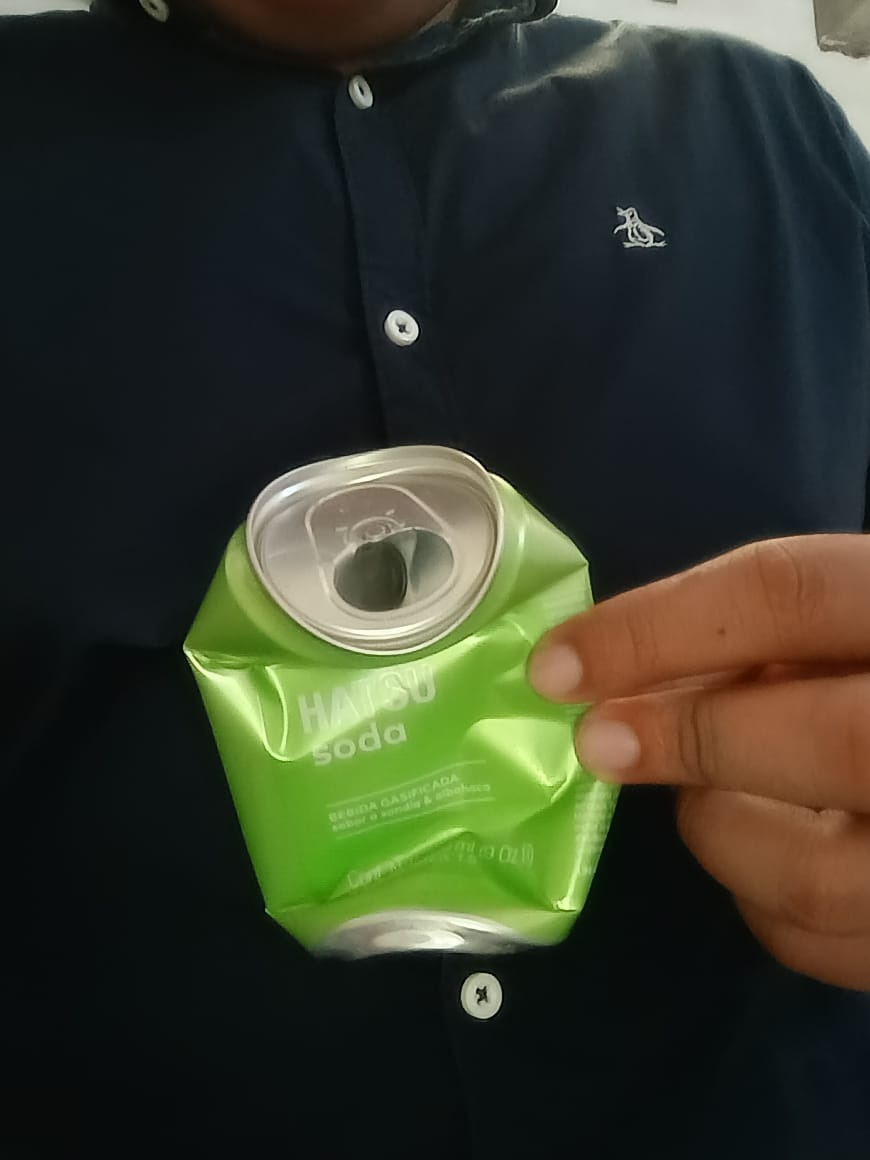Metal: (183, 438, 628, 959)
